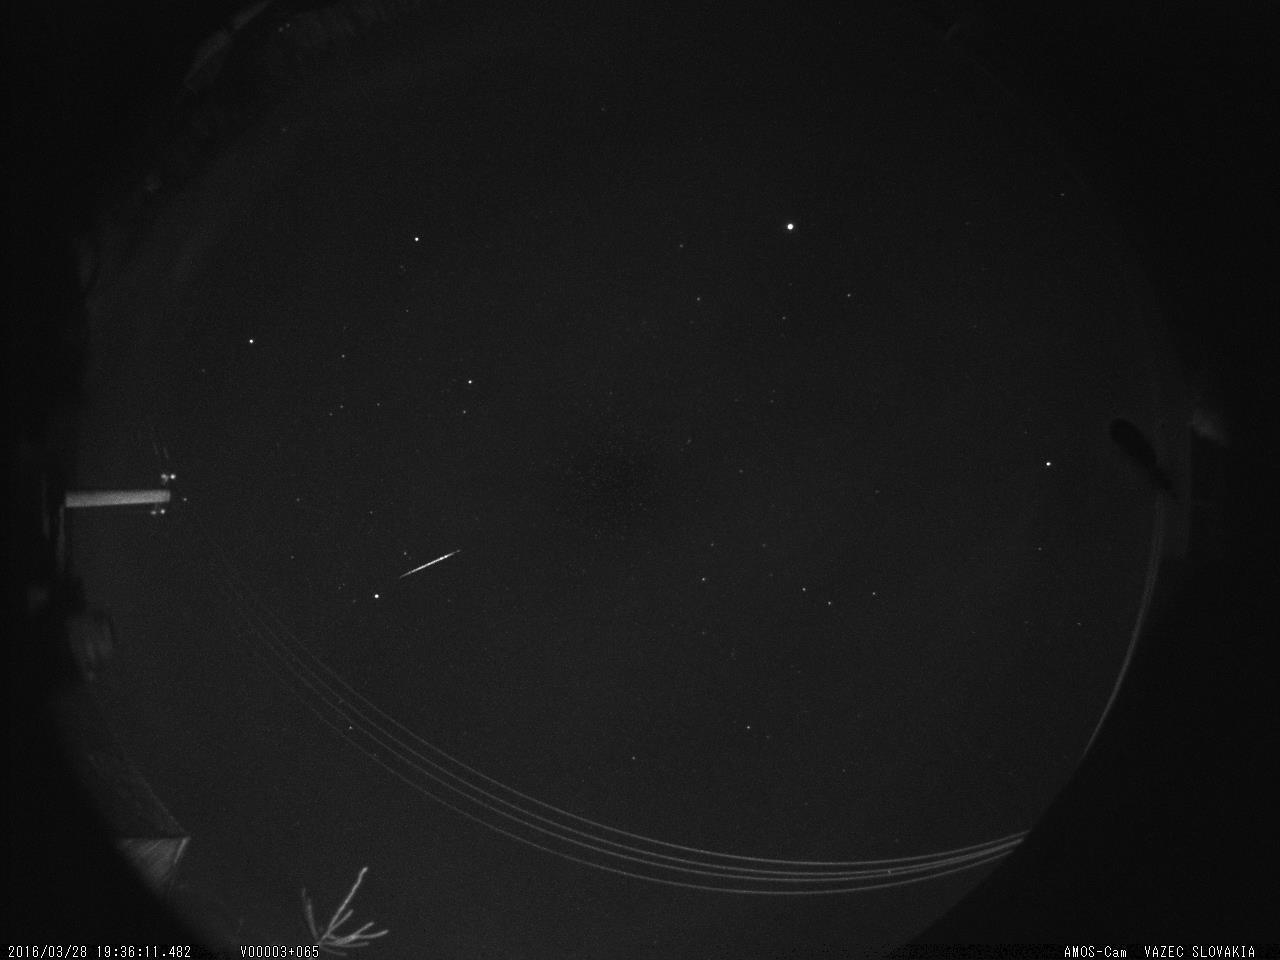Meteor: (396, 546, 461, 582)
